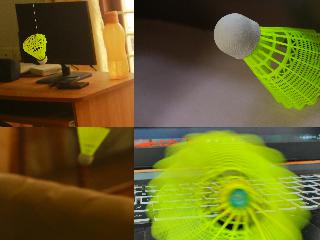shuttlecock: (142, 128, 310, 239), (213, 13, 319, 110), (76, 127, 111, 165), (23, 33, 47, 63)
